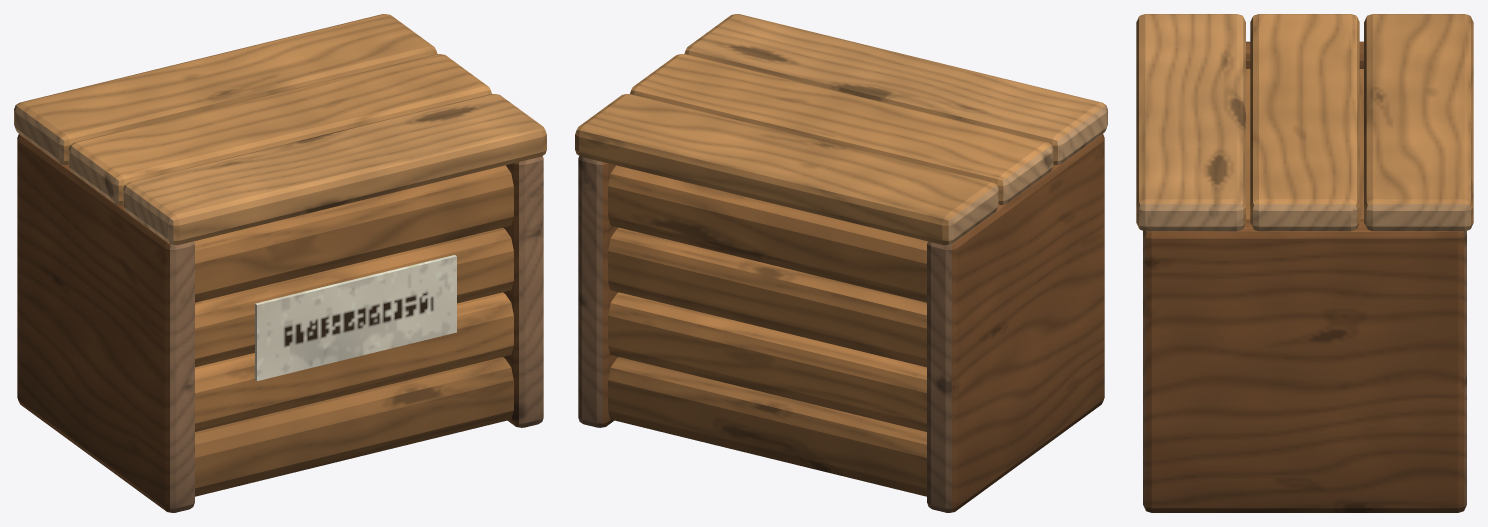
File: supply_crate.glb
The picture shows the model from 3 angles, left to right: view 1: azimuth 30°, elevation 25°; view 2: azimuth 150°, elevation 25°; view 3: azimuth 270°, elevation 25°; orthographic projection. The views are drawn at different scales.
Visible parts, largest first — view 1: Crate, Lid; view 2: Crate, Lid; view 3: Crate, Lid.
Part boxes in pixels (<box>): Crate: <box>17,134,543,512</box>; Lid: <box>14,14,546,245</box>; Crate: <box>578,134,1104,512</box>; Lid: <box>575,14,1107,245</box>; Crate: <box>1143,41,1466,512</box>; Lid: <box>1136,14,1473,231</box>.
Size of the model in its own units: 1.04 by 0.79 by 0.77.
1 material, 1 textured.
